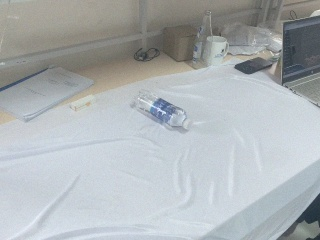bottle: (131, 89, 192, 131), (192, 10, 213, 68)
box: (162, 23, 197, 63), (280, 1, 320, 22)
cup: (202, 36, 229, 66)
phone: (234, 57, 273, 75)
